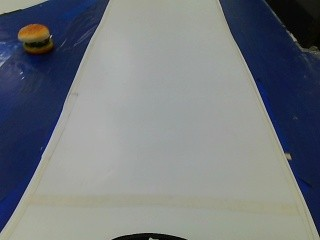burger: (18, 19, 55, 58)
